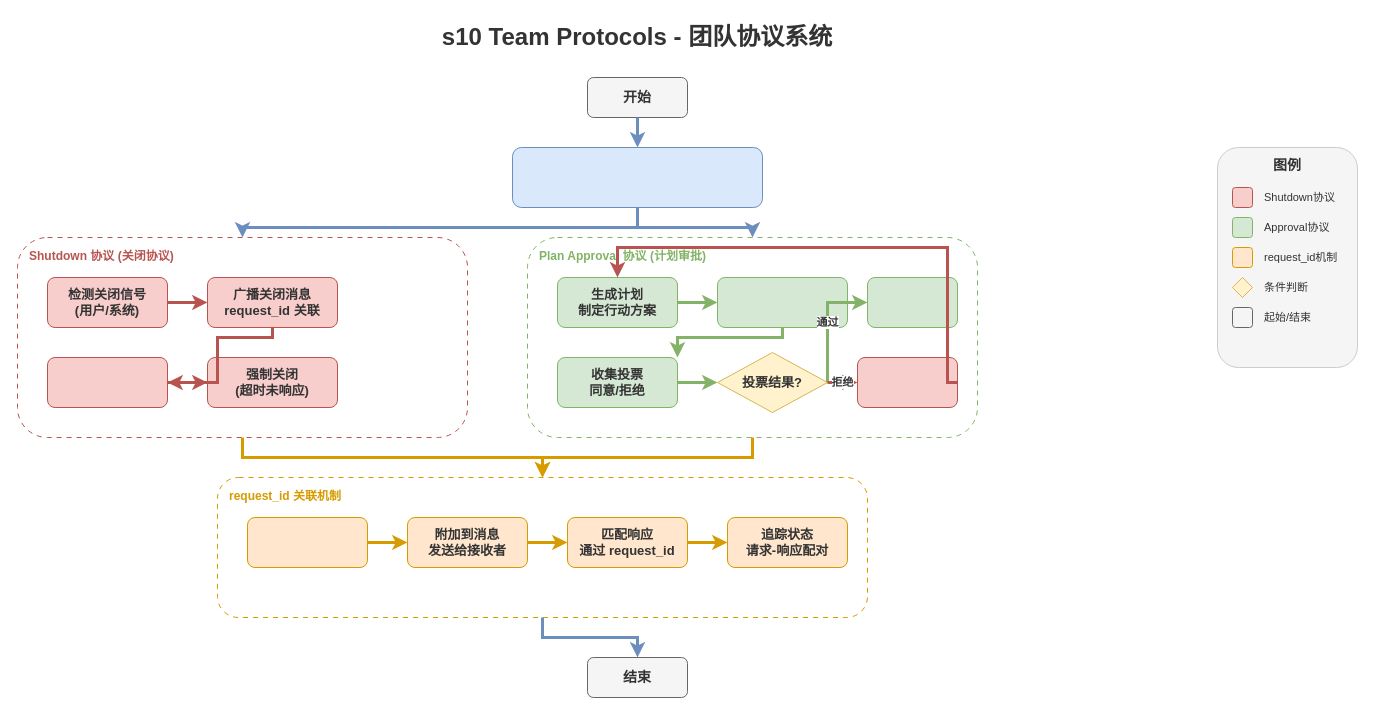
Image size: 1375x715. Some labels were removed from this diagram. The shapes that lost their labels are listed below. From the top down, each one's centre as x and y in pixels, then its label:
(x=637, y=177): 初始化协议系统 定义交互规则
(x=782, y=302): 请求审批 附带 request_id
(x=912, y=302): 执行计划
(x=107, y=382): 等待所有响应 超时检查
(x=907, y=382): 拒绝计划 重新规划
(x=307, y=542): 生成唯一ID request_id
